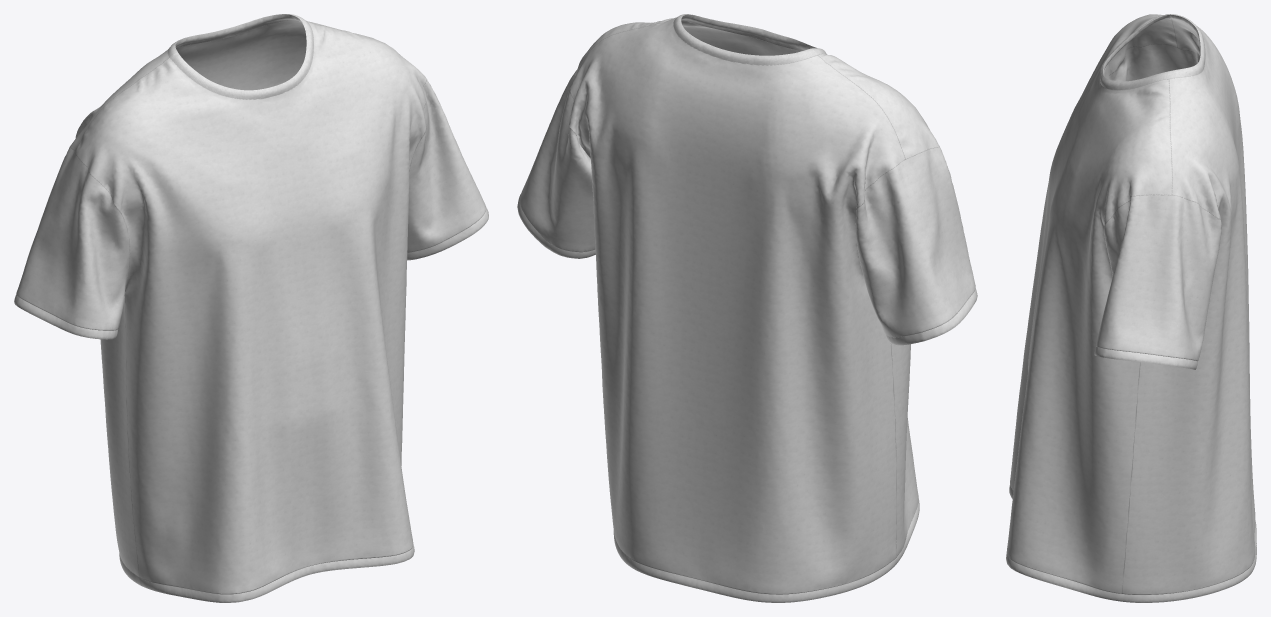
File: tshirt.glb
3 views of the same model, side by side, from view 1: azimuth 30°, elevation 25°; view 2: azimuth 150°, elevation 25°; view 3: azimuth 270°, elevation 25° (orthographic). The views are drawn at different scales.
Visible parts, largest first — view 1: Object_4, Object_3, Object_5, Object_2; view 2: Object_4, Object_5, Object_3, Object_2; view 3: Object_4, Object_3, Object_5, Object_2.
Boxes of the visible parts, bbox=[...] form: Object_4: bbox=[16, 20, 426, 594]; Object_3: bbox=[75, 14, 488, 573]; Object_5: bbox=[95, 20, 306, 558]; Object_2: bbox=[14, 207, 488, 602]; Object_4: bbox=[569, 18, 975, 594]; Object_5: bbox=[574, 30, 896, 583]; Object_3: bbox=[518, 14, 939, 594]; Object_2: bbox=[517, 194, 977, 602]; Object_4: bbox=[1006, 14, 1255, 594]; Object_3: bbox=[1010, 14, 1252, 594]; Object_5: bbox=[1122, 18, 1254, 593]; Object_2: bbox=[1006, 346, 1256, 602].
Bounding box in the file's own units: 0.637 × 0.7108 × 0.3212.
1 material, 1 textured.
